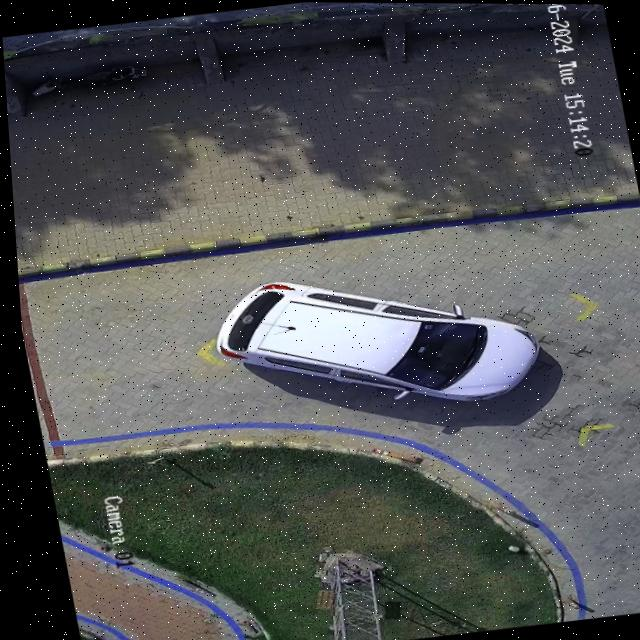car: (210, 282, 532, 400)
